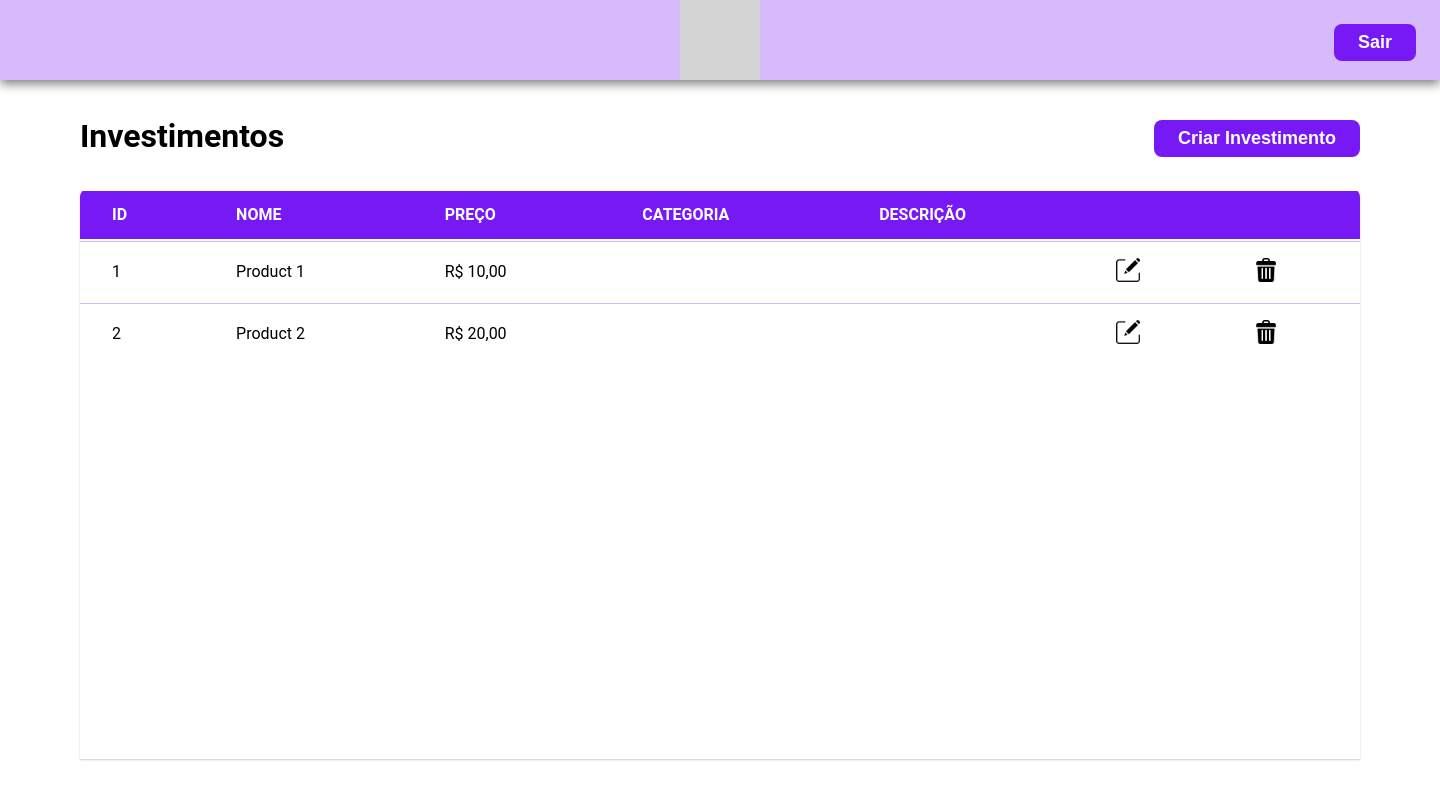
Home Component › should show create form on click create investiment button
Click the button "Criar Investimento": (1257, 138) [1154, 120, 1360, 157]
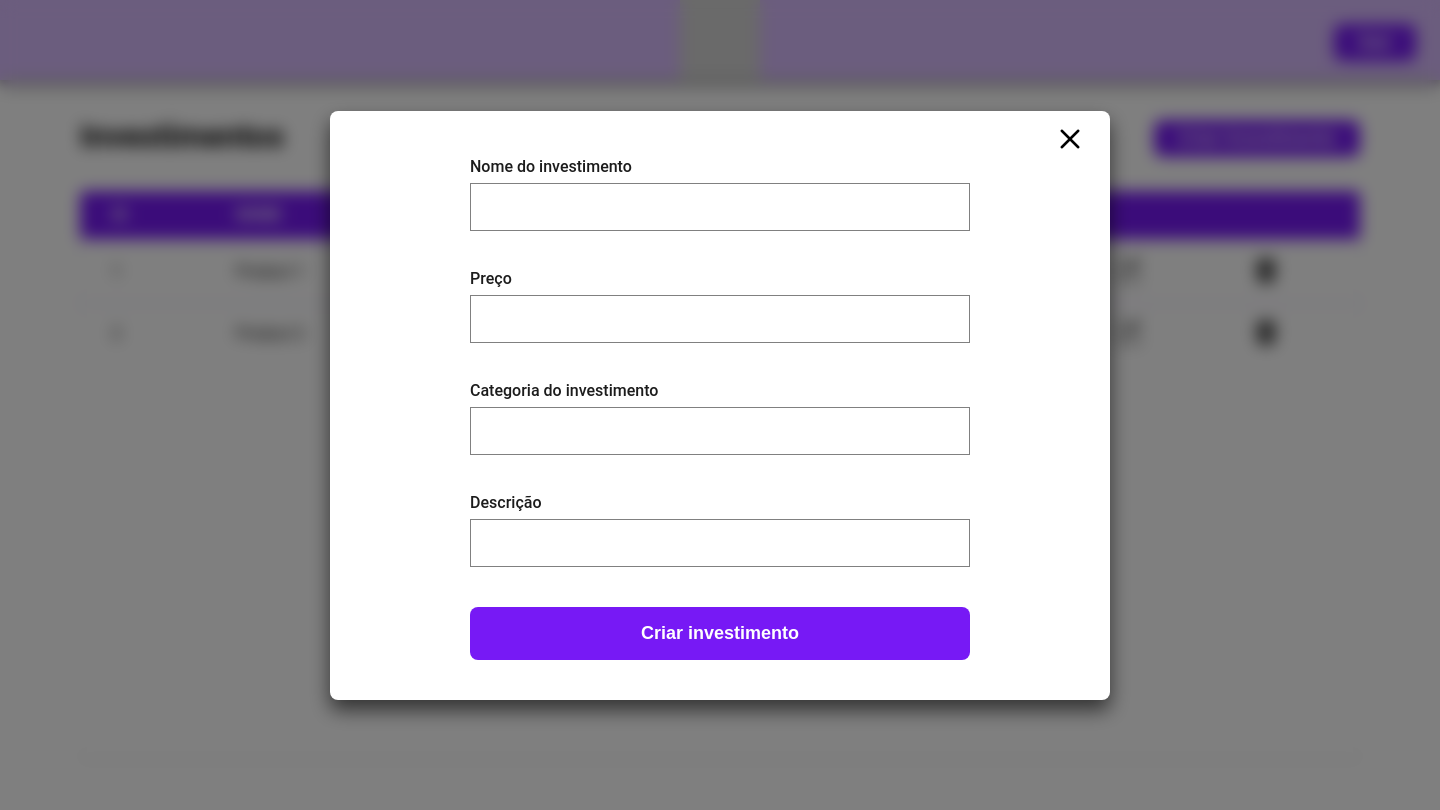
Now the element with test id "create-product-card" is shown
